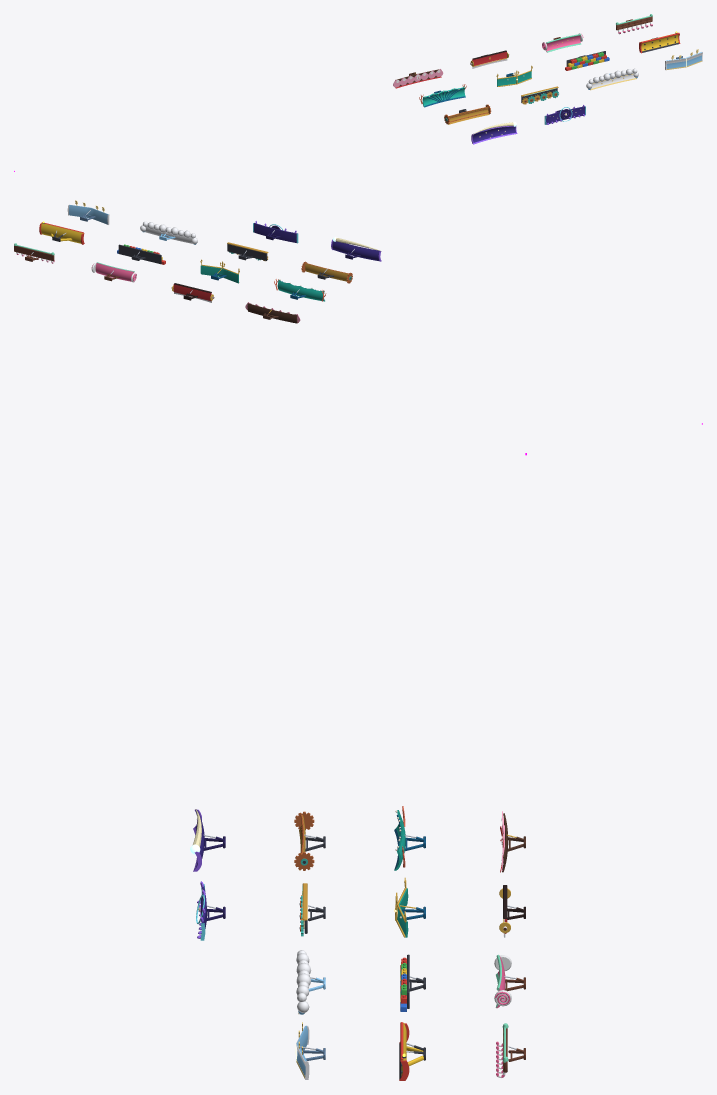
File: Blades_B.fbx
The picture shows the model from 3 angles, top to bottom: view 1: azimuth 30°, elevation 25°; view 2: azimuth 150°, elevation 25°; view 3: azimuth 270°, elevation 25°; orthographic projection. The views are drawn at different scales.
Parts seen in each view (by area): view 1: BladeCumulus__Cloud__F7F9FFSP, BladeCoral__Shell__1FB7A6SP, BladeComet__Plate__3C2E8FSP, BladeBulldozer__Plate__FFD23ASP, BladeCog__Plate__D9A441ME, BladeGalaxy__Plate__3C2E8FSP, BladePetal__Petals__FFA7C8SP, BladeLollipop__Plate__FF6FA8SP; view 2: BladeCumulus__Cloud__F7F9FFSP, BladeComet__Plate__3C2E8FSP, BladeCoral__Shell__1FB7A6SP, BladeBulldozer__Plate__FFD23ASP, BladePetal__Frame__5A3A2EWO, BladeGalaxy__Plate__3C2E8FSP, BladeThunder__Plate__8FD0FFSP, BladeBrick__Back__3B3F4ASP, BladeLollipop__Plate__FF6FA8SP; view 3: no part large enough to name.
Part boxes in pixels (x1,y1,x2,y2): BladeCumulus__Cloud__F7F9FFSP: (586,68,638,88); BladeCoral__Shell__1FB7A6SP: (422,86,465,107); BladeComet__Plate__3C2E8FSP: (473,126,515,142); BladeBulldozer__Plate__FFD23ASP: (640,32,678,51); BladeCog__Plate__D9A441ME: (448,107,489,124); BladeGalaxy__Plate__3C2E8FSP: (545,106,585,124); BladePetal__Petals__FFA7C8SP: (393,69,443,87); BladeLollipop__Plate__FF6FA8SP: (546,35,580,52); BladeCumulus__Cloud__F7F9FFSP: (140,221,197,244); BladeComet__Plate__3C2E8FSP: (332,239,380,261); BladeCoral__Shell__1FB7A6SP: (277,280,324,301); BladeBulldozer__Plate__FFD23ASP: (41,223,83,243); BladePetal__Frame__5A3A2EWO: (247,303,297,323); BladeGalaxy__Plate__3C2E8FSP: (254,223,297,242); BladeThunder__Plate__8FD0FFSP: (69,205,108,224); BladeBrick__Back__3B3F4ASP: (118,244,161,264); BladeLollipop__Plate__FF6FA8SP: (95,263,133,281).
Size of the model in its own units: 175 by 3.75 by 40.35.
